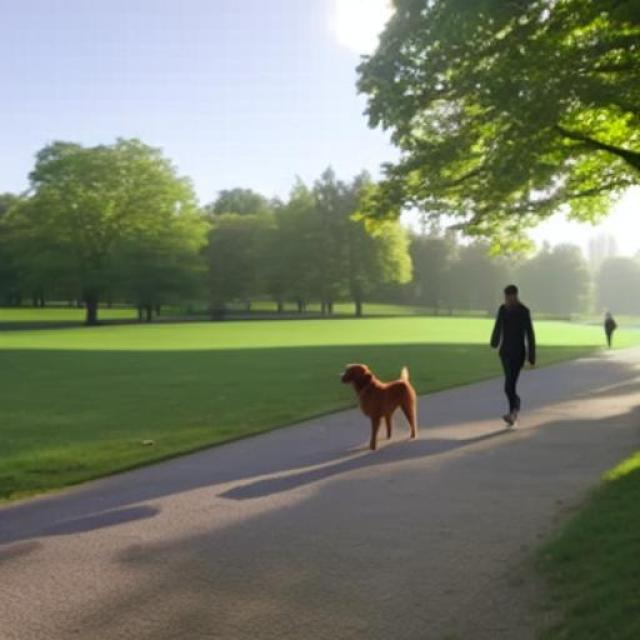Unleashed_Dog: (341, 364, 527, 450)
